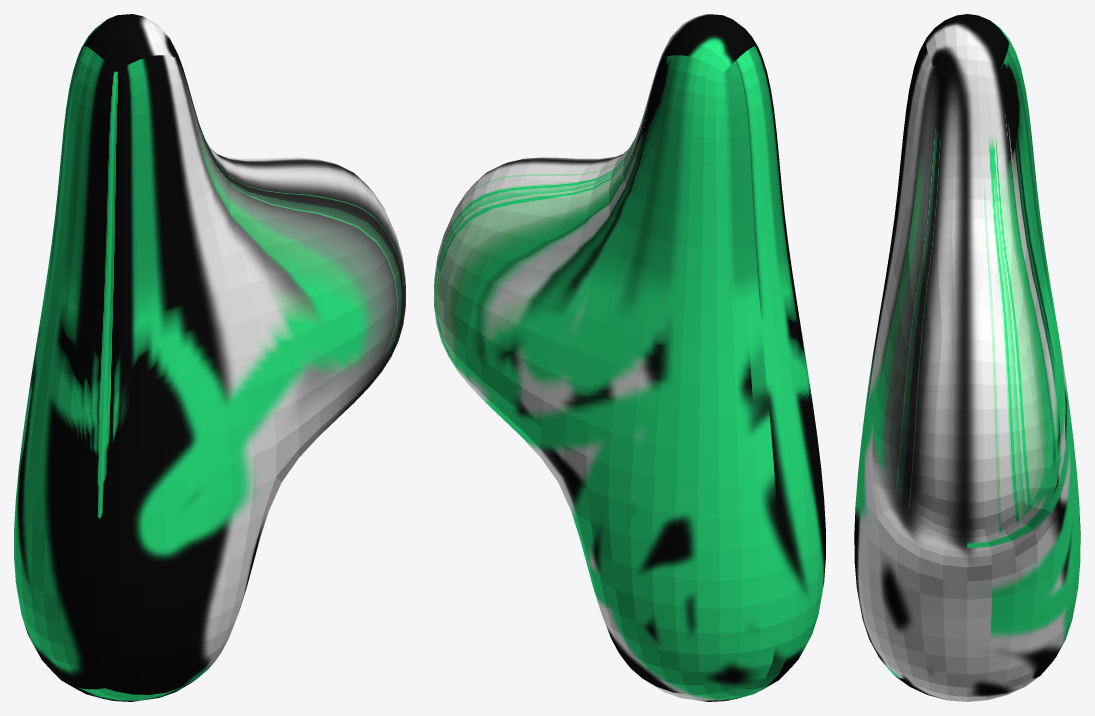
The model's file is cactus2.gltf.
3 views of the same model, side by side, from view 1: azimuth 30°, elevation 25°; view 2: azimuth 150°, elevation 25°; view 3: azimuth 270°, elevation 25° (orthographic).
Parts seen in each view (by area): view 1: Cube; view 2: Cube; view 3: Cube.
Boxes of the visible parts, x1=… form: Cube: x1=14, y1=14, x2=405, y2=701; Cube: x1=434, y1=14, x2=825, y2=701; Cube: x1=854, y1=14, x2=1080, y2=701.
Bounding box in the file's own units: 3.31 × 5.85 × 1.78.
1 material, 1 textured.
